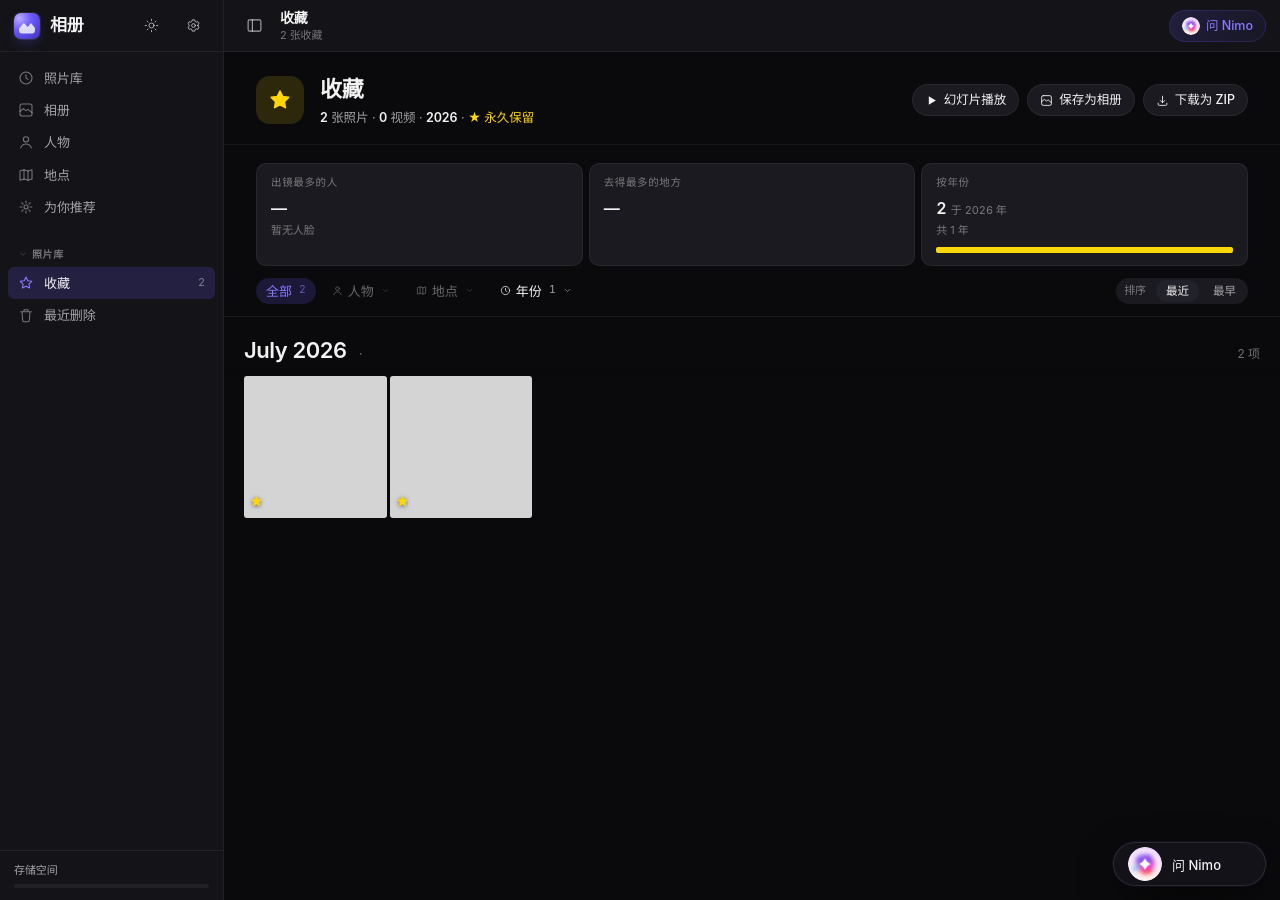
Test: PhotosFavorites.vue › Save as album › clicking "save as album" -> modal appears, input is prefilled with a default name containing the current year, subtitle/footnote copy renders
Click the button with test id "fav-save-album-btn" at [1081, 100], box [1027,84,1135,116]
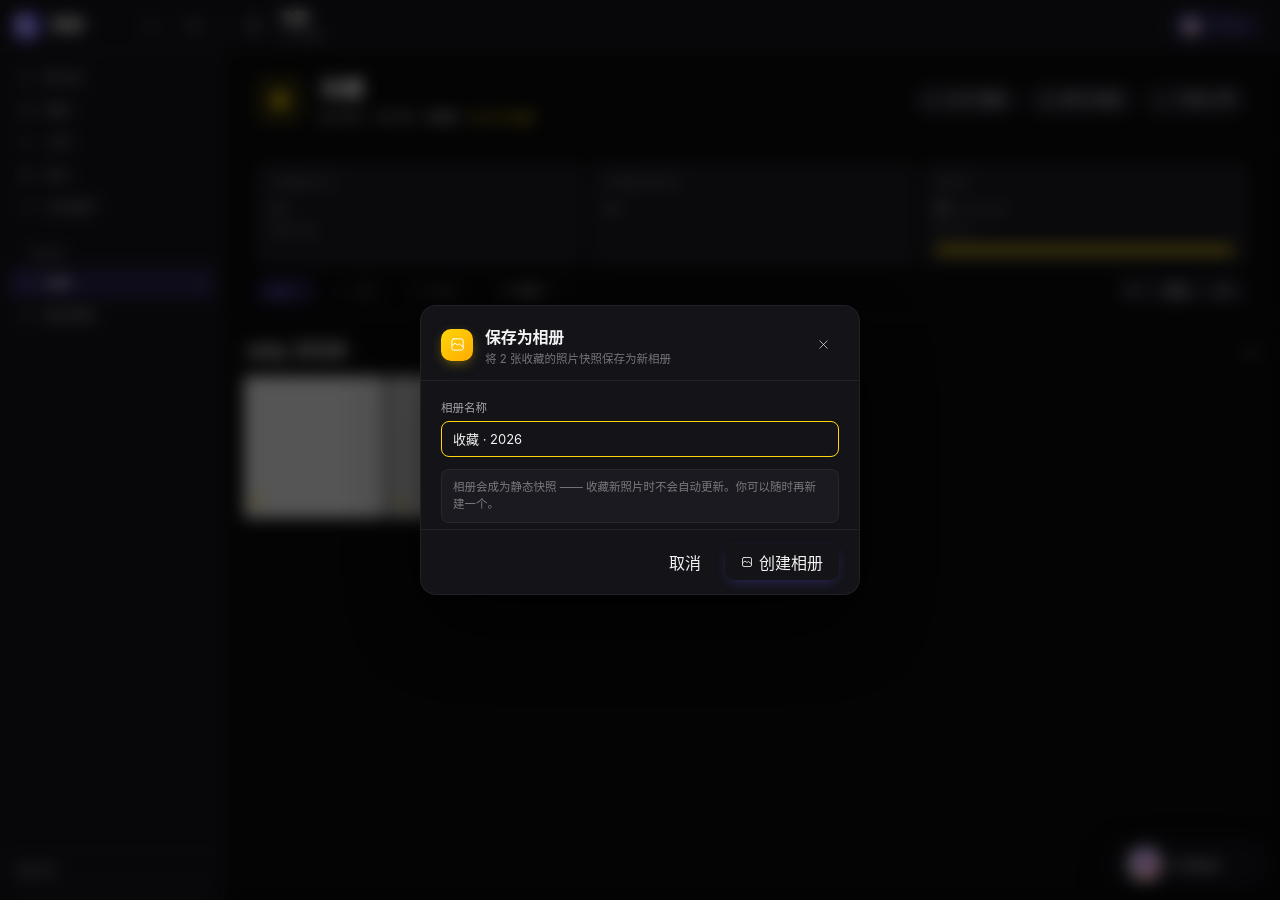
Expected: the element with test id "fav-savealbum-modal" is shown
Expected: the text with test id "fav-savealbum-sub" shows "2", [485,352,671,366]
